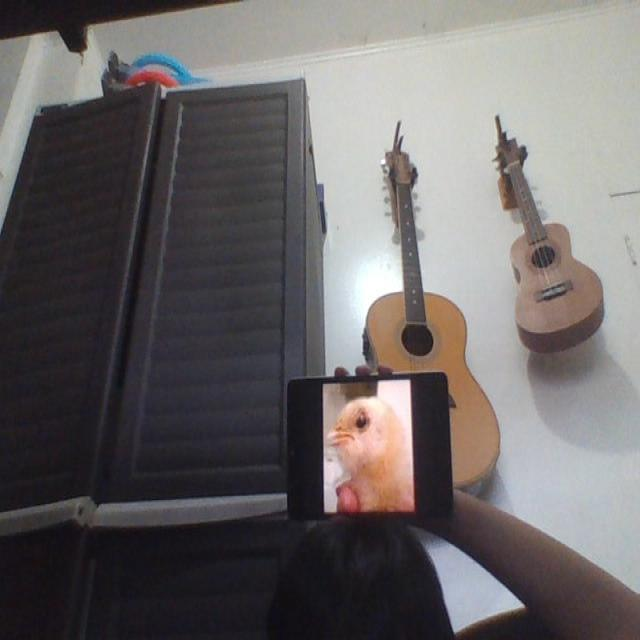Sick: (325, 398, 415, 520)
